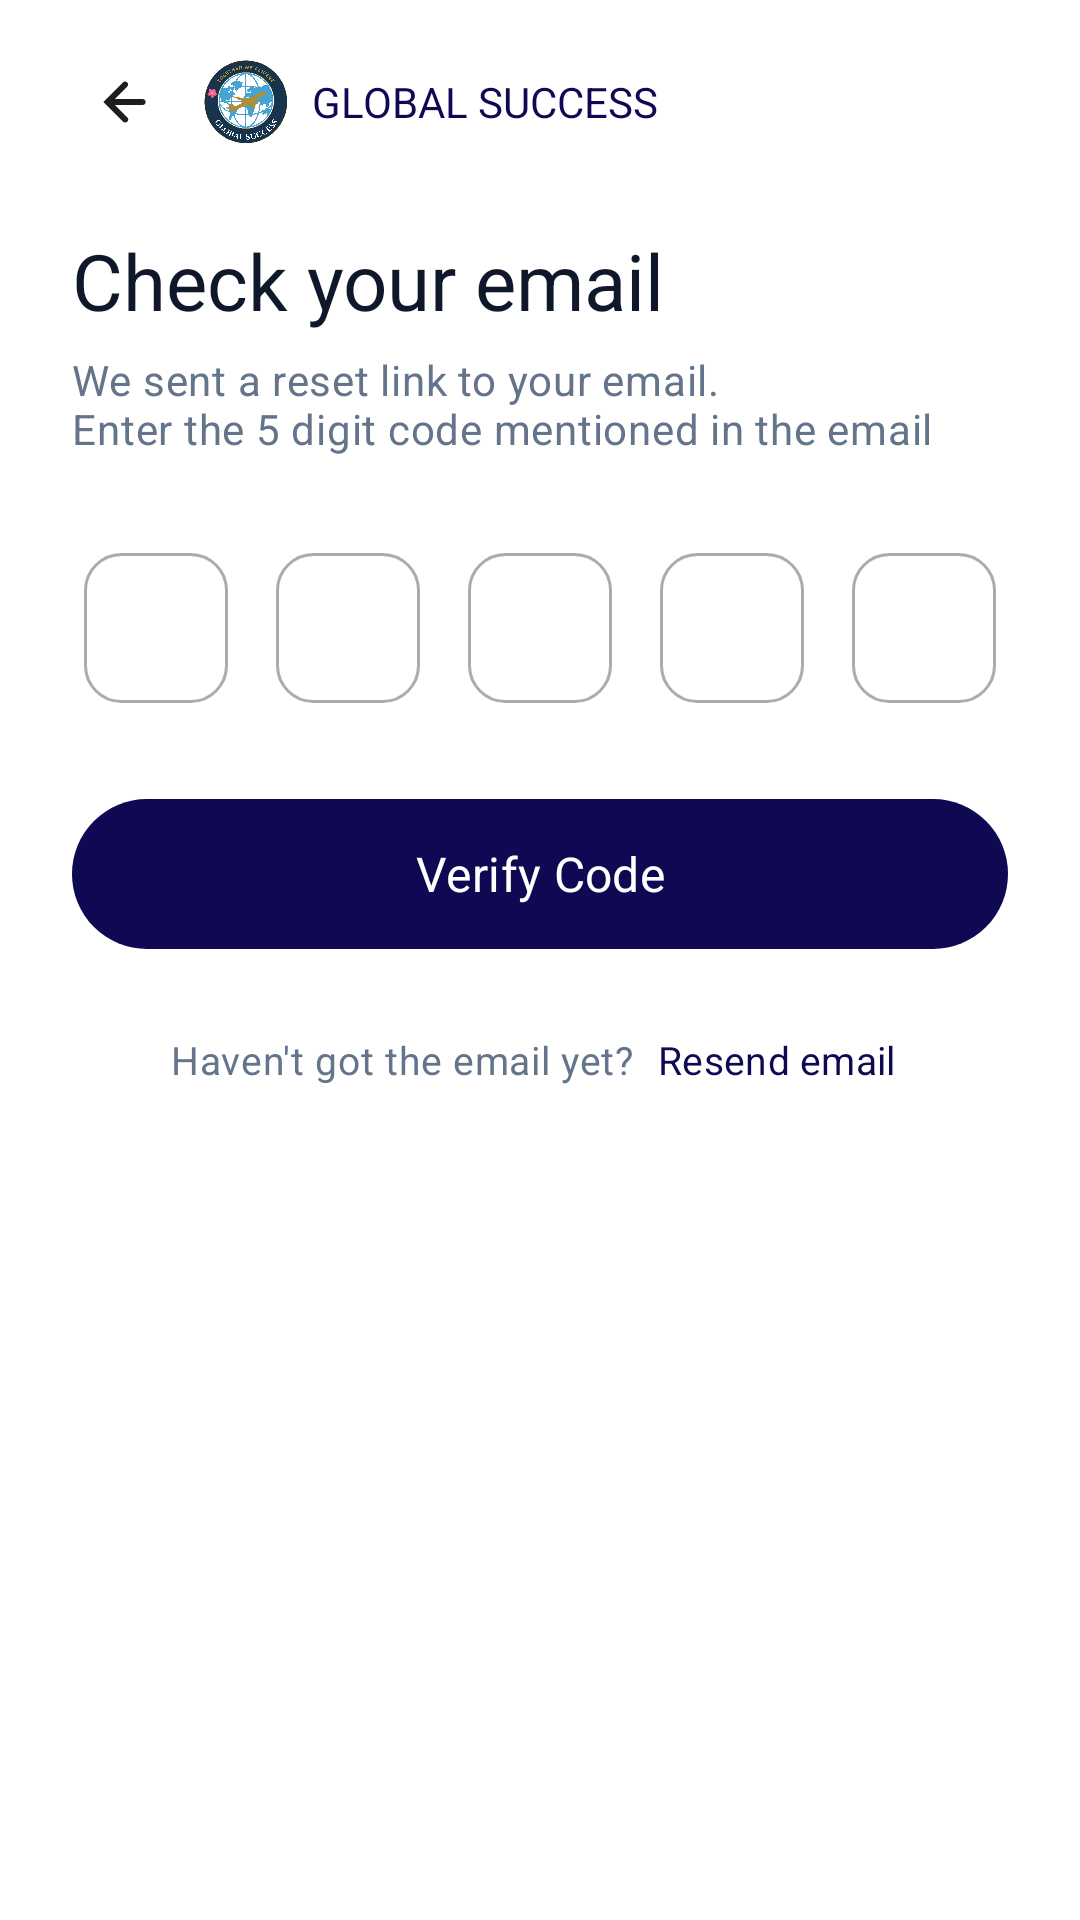

Icon click points for this 1080x1920 phone screenshot, format [x,y]:
Back button: [124,102]
